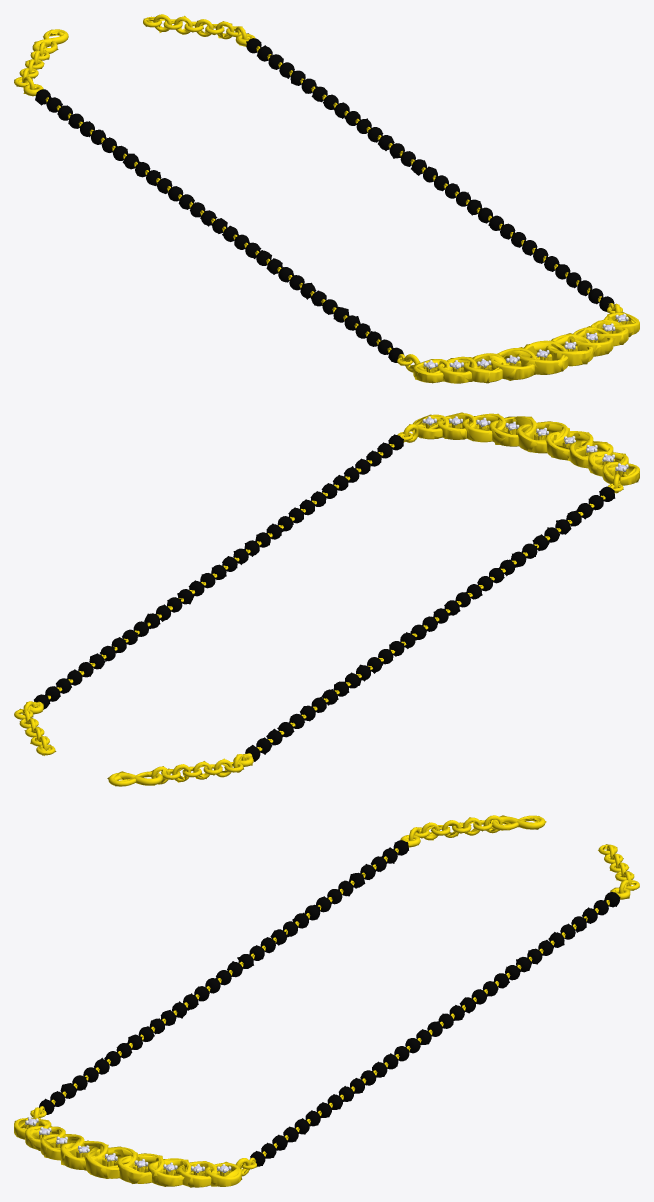
File: DPN-D000673502.glb
3 views of the same model, one above another, from view 1: azimuth 30°, elevation 25°; view 2: azimuth 150°, elevation 25°; view 3: azimuth 330°, elevation 25° (orthographic).
Visible parts, largest first — view 1: highPolyMesh, lowPolyMesh; view 2: highPolyMesh, lowPolyMesh; view 3: highPolyMesh, lowPolyMesh.
Part boxes in pixels (left/top/right/bottom): highPolyMesh: left=14, top=14, right=639, bottom=383; lowPolyMesh: left=14, top=15, right=638, bottom=383; highPolyMesh: left=14, top=413, right=639, bottom=786; lowPolyMesh: left=16, top=412, right=639, bottom=786; highPolyMesh: left=14, top=815, right=639, bottom=1187; lowPolyMesh: left=14, top=815, right=639, bottom=1187.
Bounding box in the file's own units: 0.0362 × 0.00294 × 0.1293.
